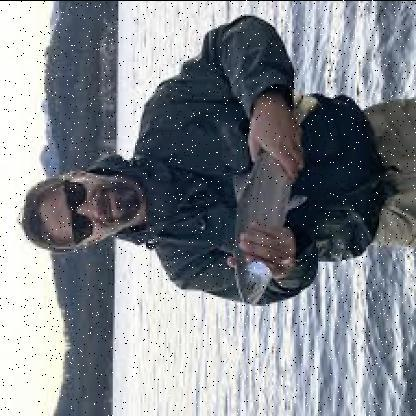fish: (229, 93, 315, 306)
